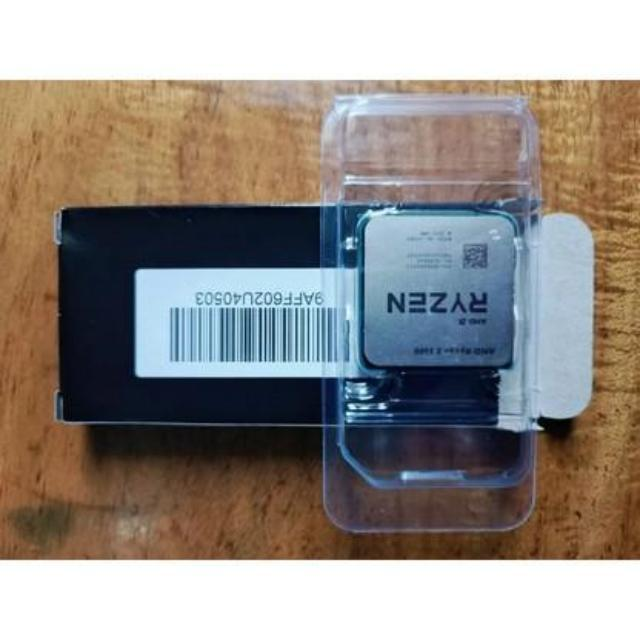CPU: (358, 209, 520, 377)
